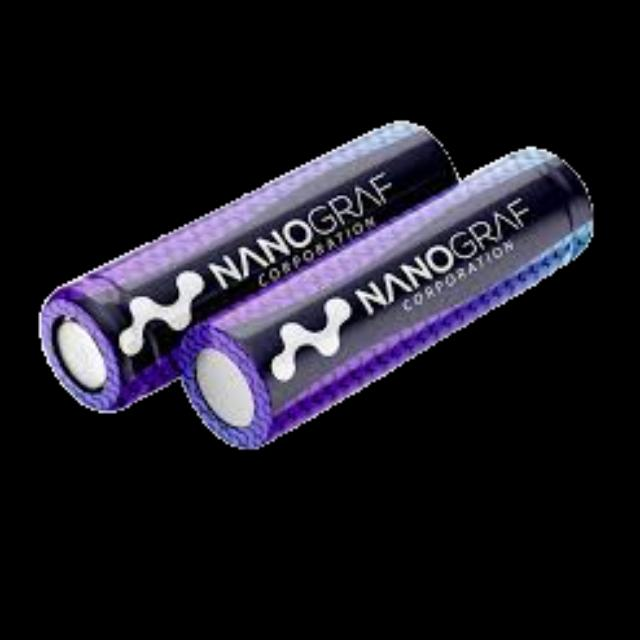Battery: (36, 121, 596, 452)
